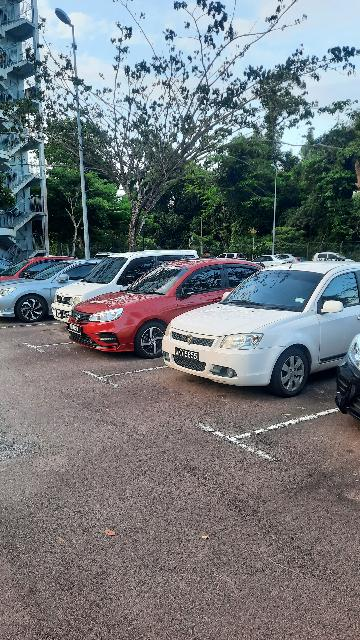License_Plate: (172, 343, 206, 366), (65, 321, 87, 335), (55, 308, 67, 320)
car: (161, 261, 360, 399), (68, 258, 265, 360), (51, 247, 233, 327)
